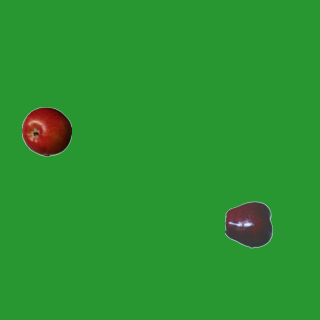Apple Braeburn: (21, 106, 71, 156)
Apple Red Delicious: (224, 199, 274, 249)
